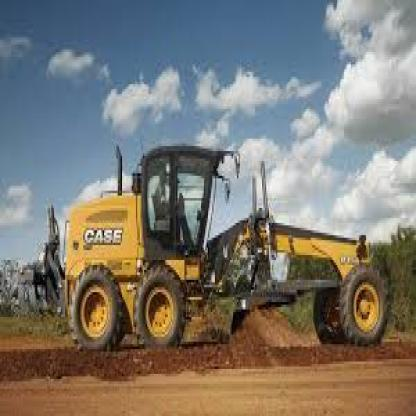bull_dozer/loader/grader: (35, 119, 391, 369)
